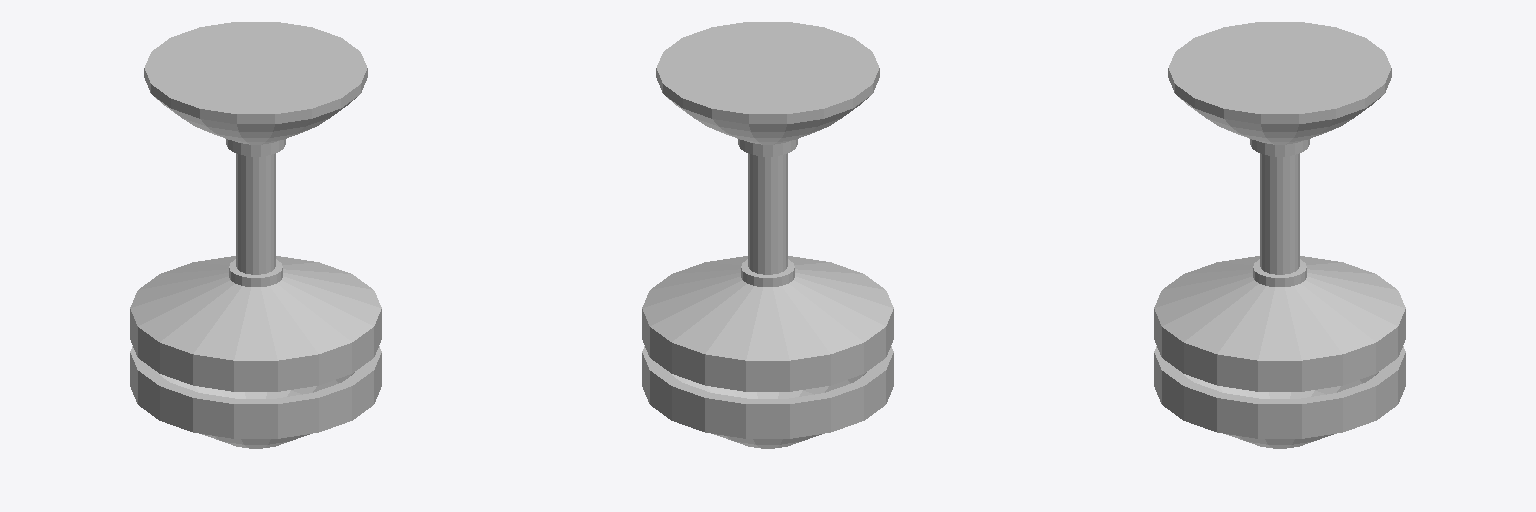
File: meio.obj
The picture shows the model from 3 angles: view 1: azimuth 30°, elevation 25°; view 2: azimuth 150°, elevation 25°; view 3: azimuth 270°, elevation 25°; orthographic projection.
Visible parts, largest first — view 1: base_Cylinder; view 2: base_Cylinder; view 3: base_Cylinder.
Boxes of the visible parts, box(x1,y1,x2,y2) form: base_Cylinder: box(130, 22, 381, 448); base_Cylinder: box(642, 22, 893, 448); base_Cylinder: box(1154, 22, 1405, 448).
Size of the model in its own units: 1.44 by 2.4 by 1.46.